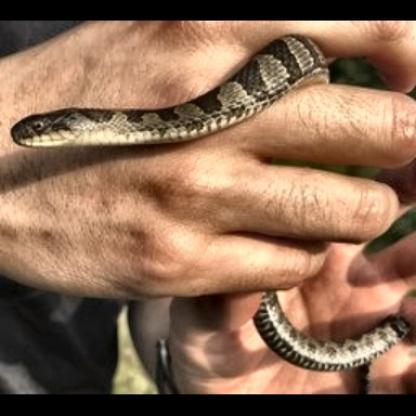Snake: (9, 45, 414, 359)
